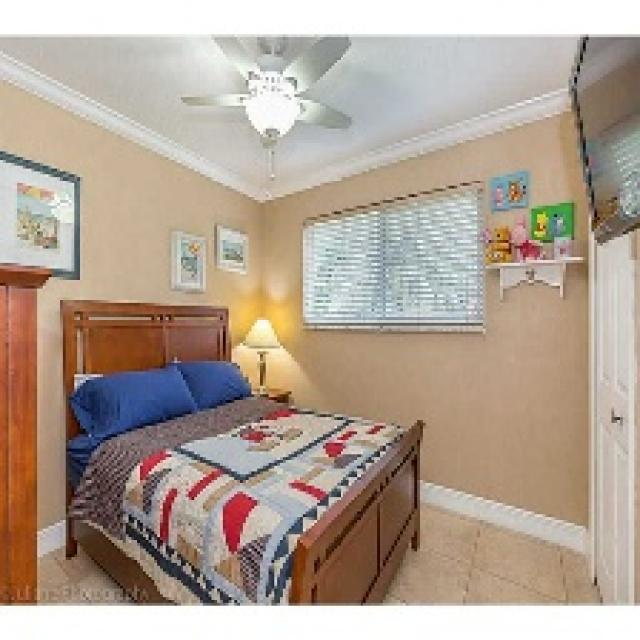Bed: (57, 297, 423, 603)
